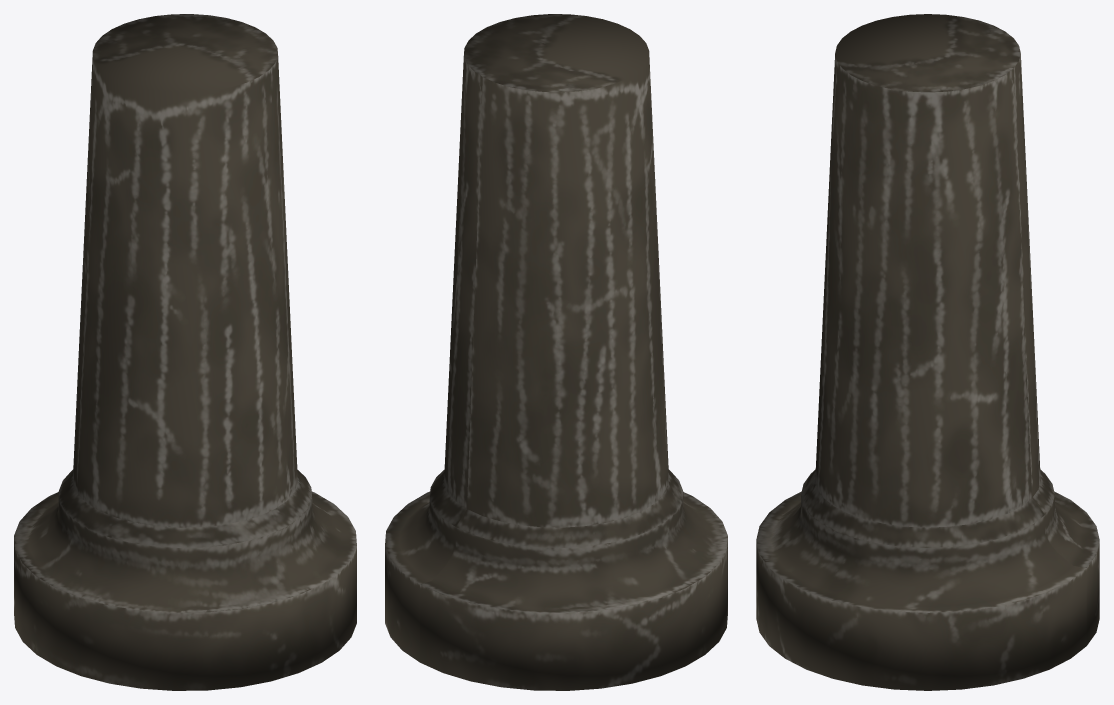
The model's file is columna 1.fbx.
3 renders of one model, left to right at view 1: azimuth 30°, elevation 25°; view 2: azimuth 150°, elevation 25°; view 3: azimuth 270°, elevation 25°, orthographic.
Parts seen in each view (by area): view 1: columna 1; view 2: columna 1; view 3: columna 1.
Part boxes in pixels (<box>): columna 1: <box>14,14,356,690</box>; columna 1: <box>385,14,727,690</box>; columna 1: <box>756,14,1099,690</box>.
Size of the model in its own units: 93.68 by 170 by 93.68.
Materials: 1 (1 with a texture image).
